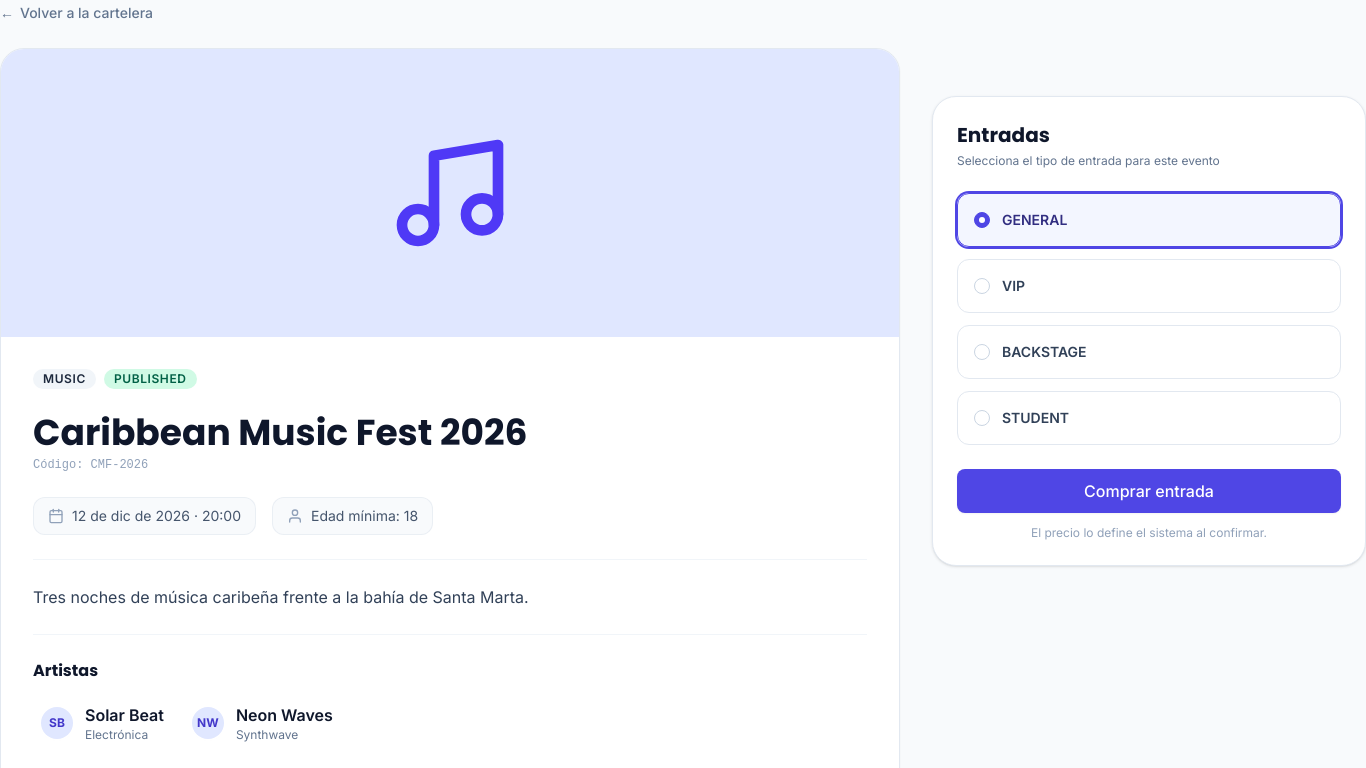
Scenario: Tickets y Compra › TEST-FE-TKT-001: compra válida de entrada navega a página de confirmación
The image size is (1366, 768).
Click the button "Comprar entrada".
click(1149, 491)  # box [957,469,1341,513]
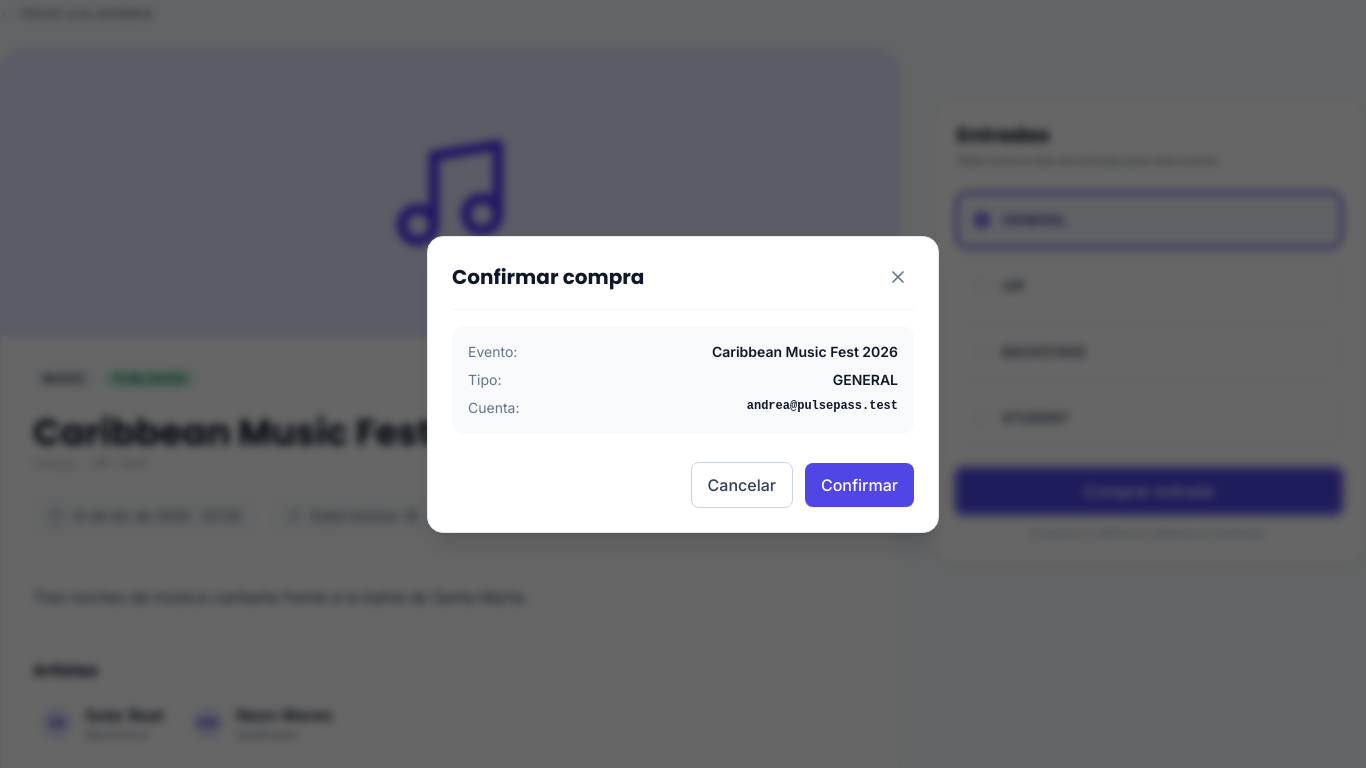
Click the button "Confirmar".
click(860, 484)  # box [805,462,914,506]
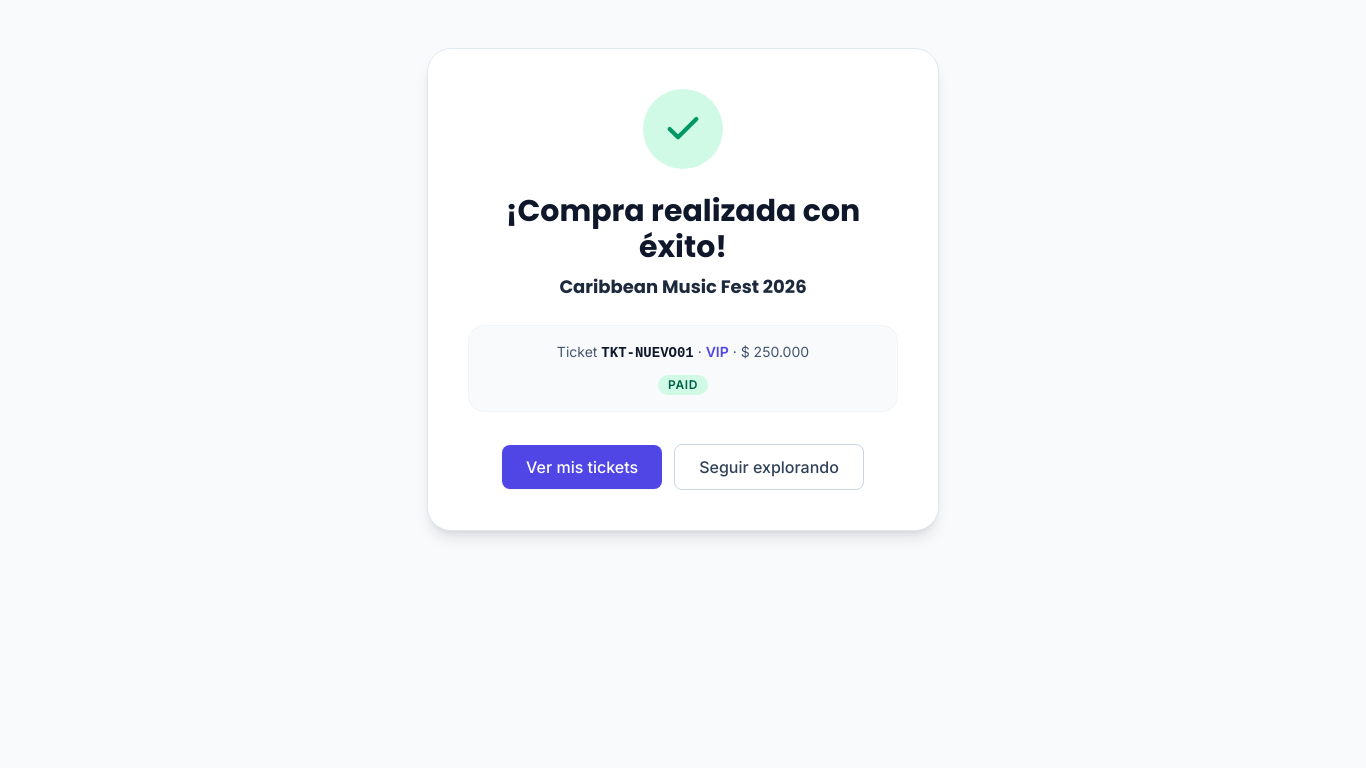
Now the heading "¡Compra realizada con éxito!" is shown, box [506,190,860,268]
